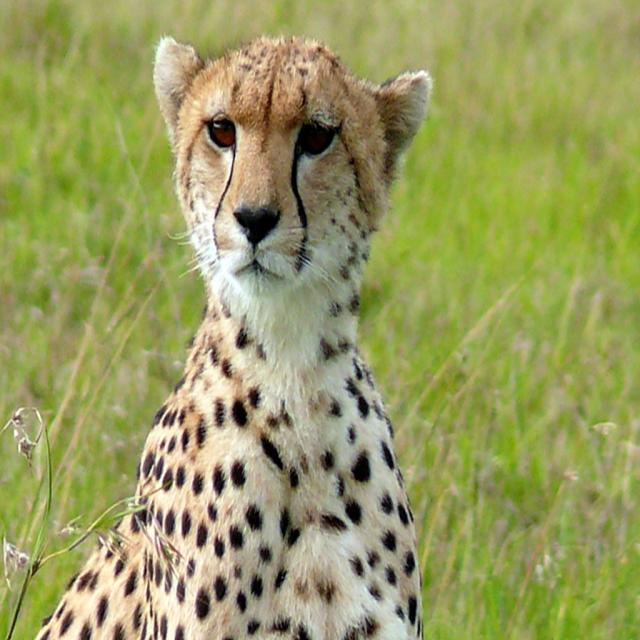Cheetah: (27, 29, 436, 638)
